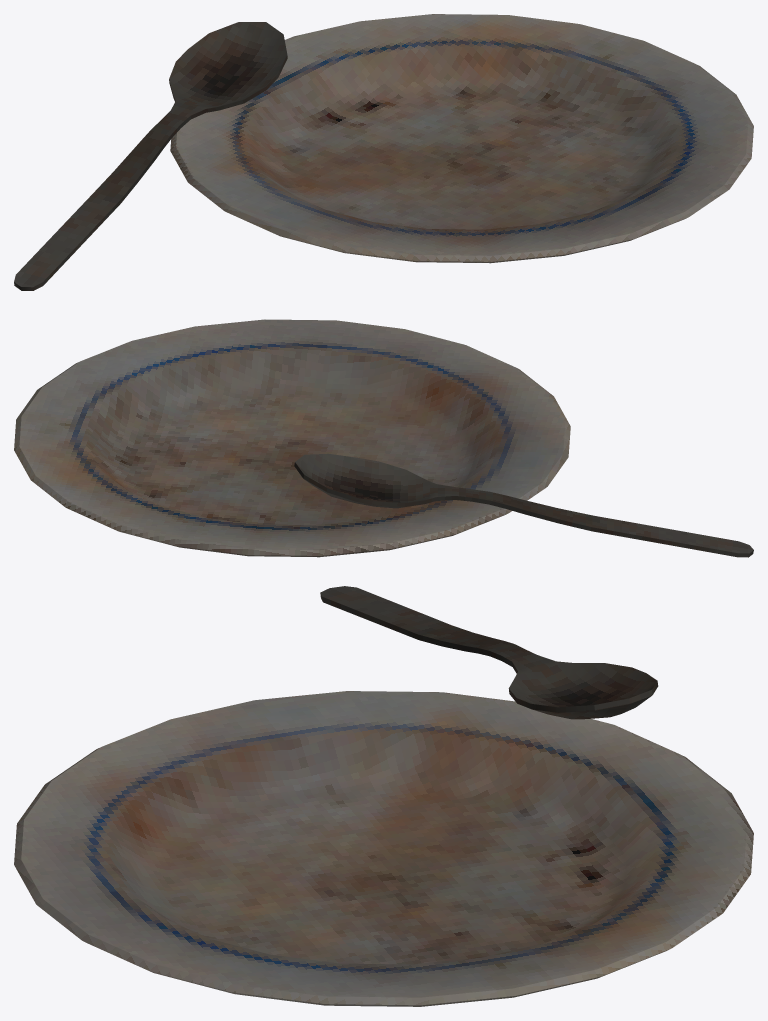
The model's file is plateSpoon.glb.
The picture shows the model from 3 angles, top to bottom: view 1: azimuth 30°, elevation 25°; view 2: azimuth 150°, elevation 25°; view 3: azimuth 270°, elevation 25°; orthographic projection. The views are drawn at different scales.
Visible parts, largest first — view 1: plate, spoon; view 2: plate, spoon; view 3: plate, spoon.
Boxes of the visible parts, x1,y1,x2,y2 form: plate: [170, 14, 753, 263]; spoon: [14, 22, 287, 290]; plate: [14, 319, 570, 557]; spoon: [294, 453, 753, 557]; plate: [14, 691, 753, 1006]; spoon: [320, 586, 658, 719].
Size of the model in its own units: 0.8819 by 0.1204 by 0.6222.
Materials: 2 (2 with a texture image).
